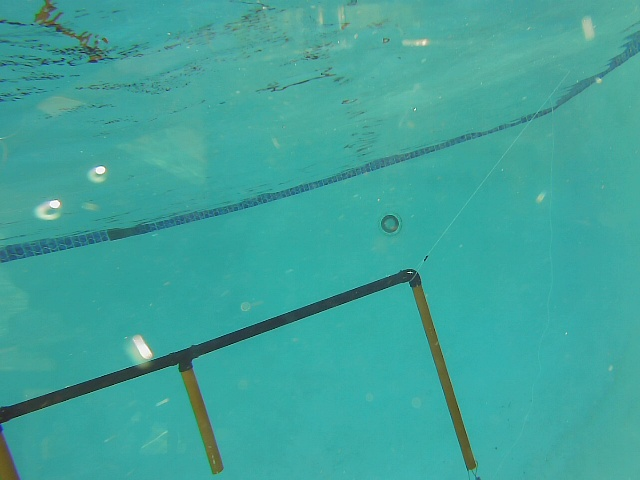Gate: (408, 278, 480, 476), (176, 359, 223, 477)
